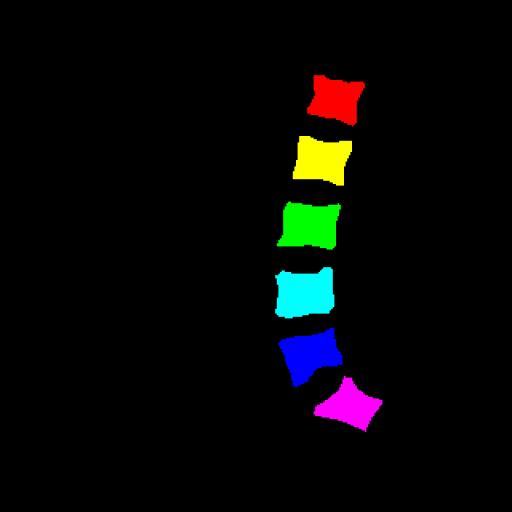L1: (307, 75, 365, 125)
L2: (293, 136, 352, 186)
L3: (277, 202, 341, 250)
L4: (275, 267, 334, 318)
L5: (279, 328, 342, 387)
S1: (314, 377, 382, 431)
